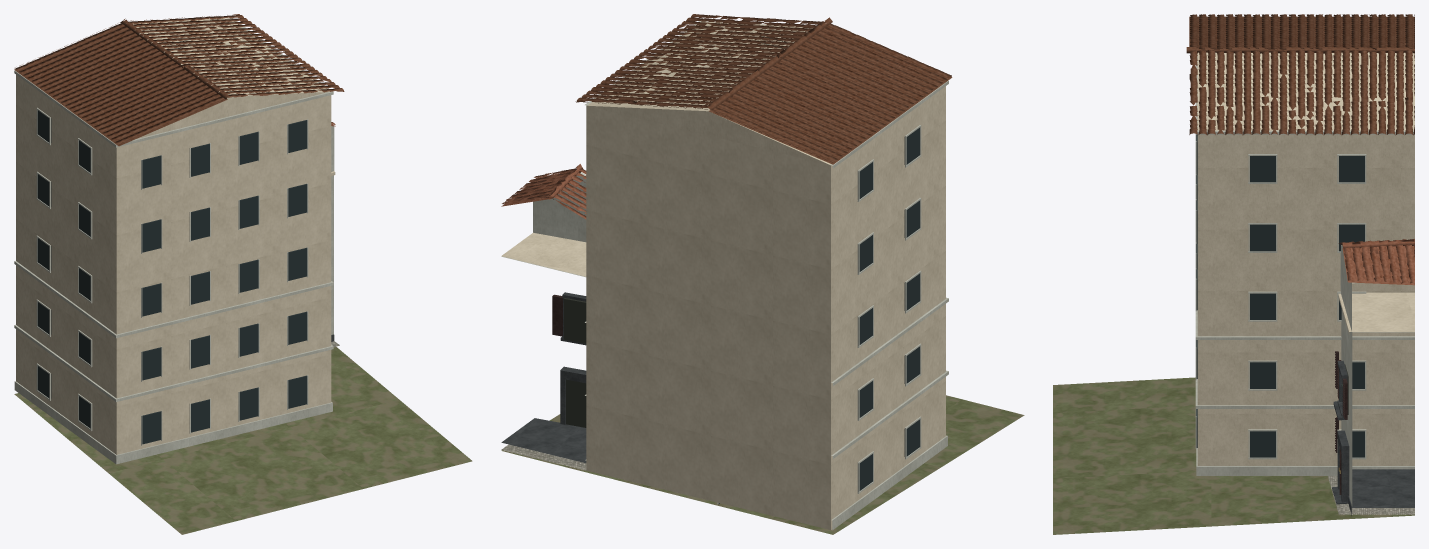
Rendered from 2_6_bb4faad0e5a7.glb.
3 views of the same model, side by side, from view 1: azimuth 30°, elevation 25°; view 2: azimuth 150°, elevation 25°; view 3: azimuth 270°, elevation 25° (orthographic). The views are drawn at different scales.
Size of the model in its own units: 16 by 20.22 by 16.
Materials: 12 (8 with a texture image).
